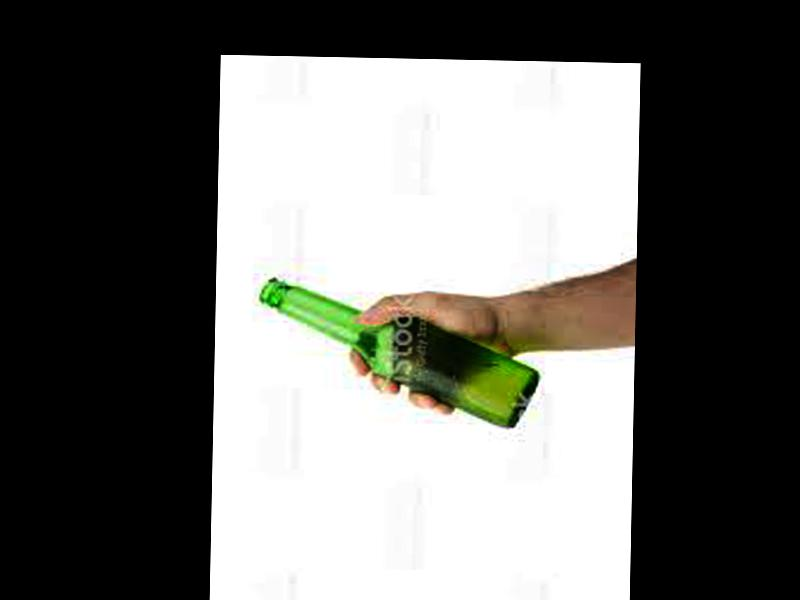Beer: (254, 277, 537, 429)
